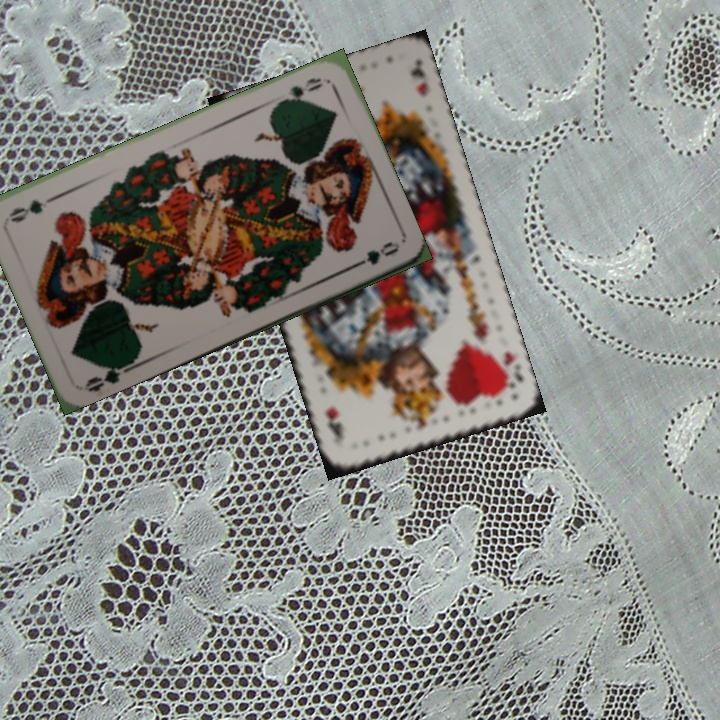GO: (80, 359, 136, 395), (274, 73, 326, 108)
HK: (492, 347, 527, 392)
